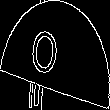O_S: (38, 25, 72, 85)
